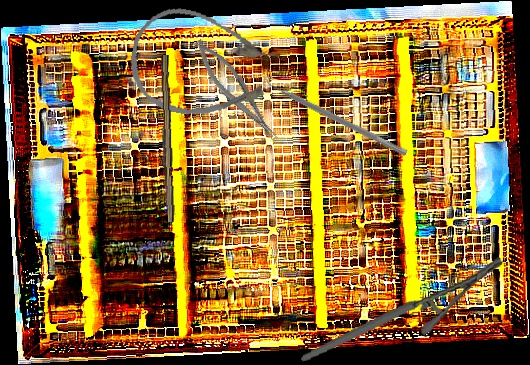Cannula: (122, 1, 286, 130)
Needle Holder: (291, 255, 514, 362), (188, 32, 283, 150)
Scalpel Handle: (155, 54, 178, 223)
Spatula Surgical: (261, 73, 411, 157)
